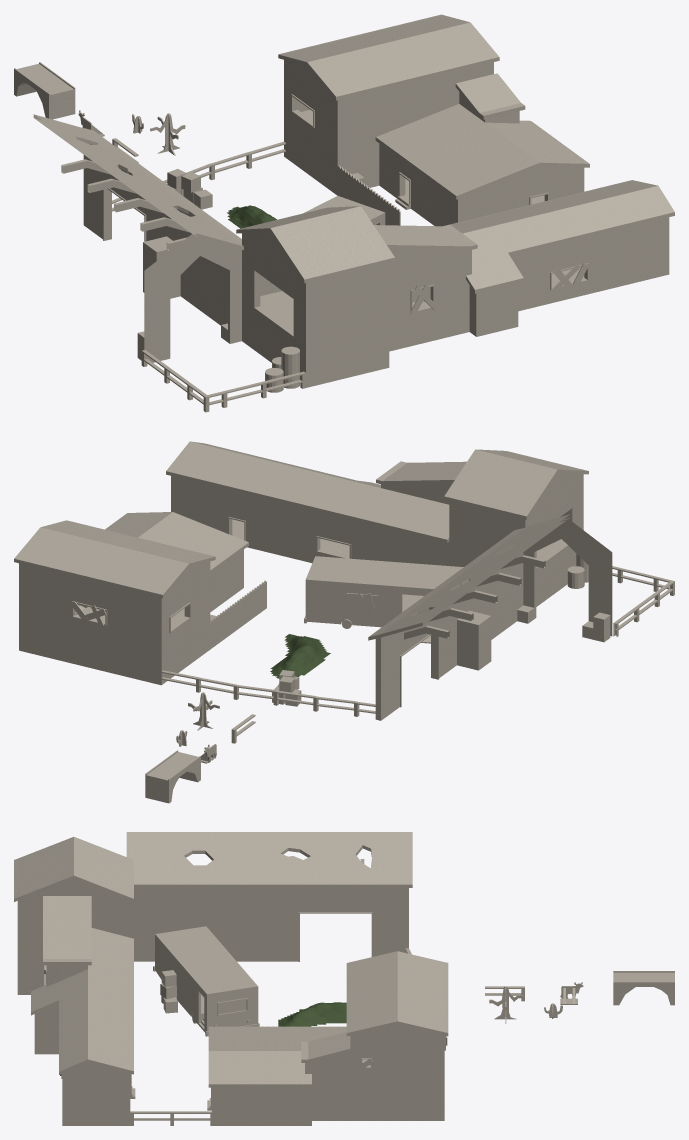
Rendered from Nightmap.fbx.
The picture shows the model from 3 angles, top to bottom: view 1: azimuth 30°, elevation 25°; view 2: azimuth 150°, elevation 25°; view 3: azimuth 270°, elevation 25°; orthographic projection. The views are drawn at different scales.
Visible parts, largest first — view 1: House_roof1, House_roof6, Sidebuilding_wall4, Sidebuilding_wall18, House_wall8, Sidebuilding_roof1, House_wall7, Sidebuilding_roof12, House_wall2, Sidebuilding_wall12, House_wall1, Sidebuilding_wall10 (+29 smaller); view 2: House_wall6, Sidebuilding_roof9, House_roof6, Sidebuilding_roof1, House_wall7, Sidebuilding_wall25, House_roof1, VehicleCaravan_wall7, VehicleCaravan_wall4, Sidebuilding_wall8, Sidebuilding_wall22, Middle_wall7 (+25 smaller); view 3: House_wall5, House_roof6, Middle_wall3, House_roof1, Middle_wall4, Sidebuilding_roof9, Sidebuilding_roof1, Sidebuilding_wall19, House_wall3, VehicleCaravan_wall4, Sidebuilding_roof6, Middle_roof16 (+22 smaller).
Boxes of the visible parts, box(x1,y1,x2,y2) form: House_roof1: box(376, 104, 589, 195); House_roof6: box(279, 14, 498, 96); Sidebuilding_wall4: box(306, 263, 389, 387); Sidebuilding_wall18: box(510, 217, 669, 311); House_wall8: box(337, 62, 493, 187); Sidebuilding_roof1: box(237, 206, 394, 279); House_wall7: box(284, 60, 337, 195); Sidebuilding_roof12: box(488, 185, 672, 250); House_wall2: box(458, 166, 584, 222); Sidebuilding_wall12: box(389, 248, 468, 295); House_wall1: box(379, 143, 457, 226); Sidebuilding_wall10: box(389, 299, 468, 351); House_wall6: box(19, 563, 161, 685); Sidebuilding_roof9: box(168, 441, 449, 537); House_roof6: box(14, 520, 214, 594); Sidebuilding_roof1: box(444, 449, 587, 516); House_wall7: box(161, 561, 210, 684); Sidebuilding_wall25: box(171, 476, 449, 557); House_roof1: box(105, 512, 248, 570); VehicleCaravan_wall7: box(305, 579, 433, 627); VehicleCaravan_wall4: box(305, 556, 463, 588); Sidebuilding_wall8: box(449, 501, 525, 562); Sidebuilding_wall22: box(246, 508, 316, 562); Middle_wall7: box(438, 566, 523, 677); House_wall5: box(305, 1024, 444, 1120); House_roof6: box(346, 951, 448, 1032); Middle_wall3: box(130, 888, 408, 911); House_roof1: box(208, 1026, 346, 1084); Middle_wall4: box(130, 912, 298, 961); Sidebuilding_roof9: box(88, 928, 130, 1070); Sidebuilding_roof1: box(14, 837, 133, 898); Sidebuilding_wall19: box(62, 1063, 130, 1125); House_wall3: box(212, 1087, 311, 1125); VehicleCaravan_wall4: box(155, 926, 257, 994); Sidebuilding_roof6: box(43, 896, 91, 961); Middle_roof16: box(280, 832, 333, 884).
Bounding box in the file's own units: 4130 × 1100 × 5454.
Materials: 3 (3 with a texture image).
